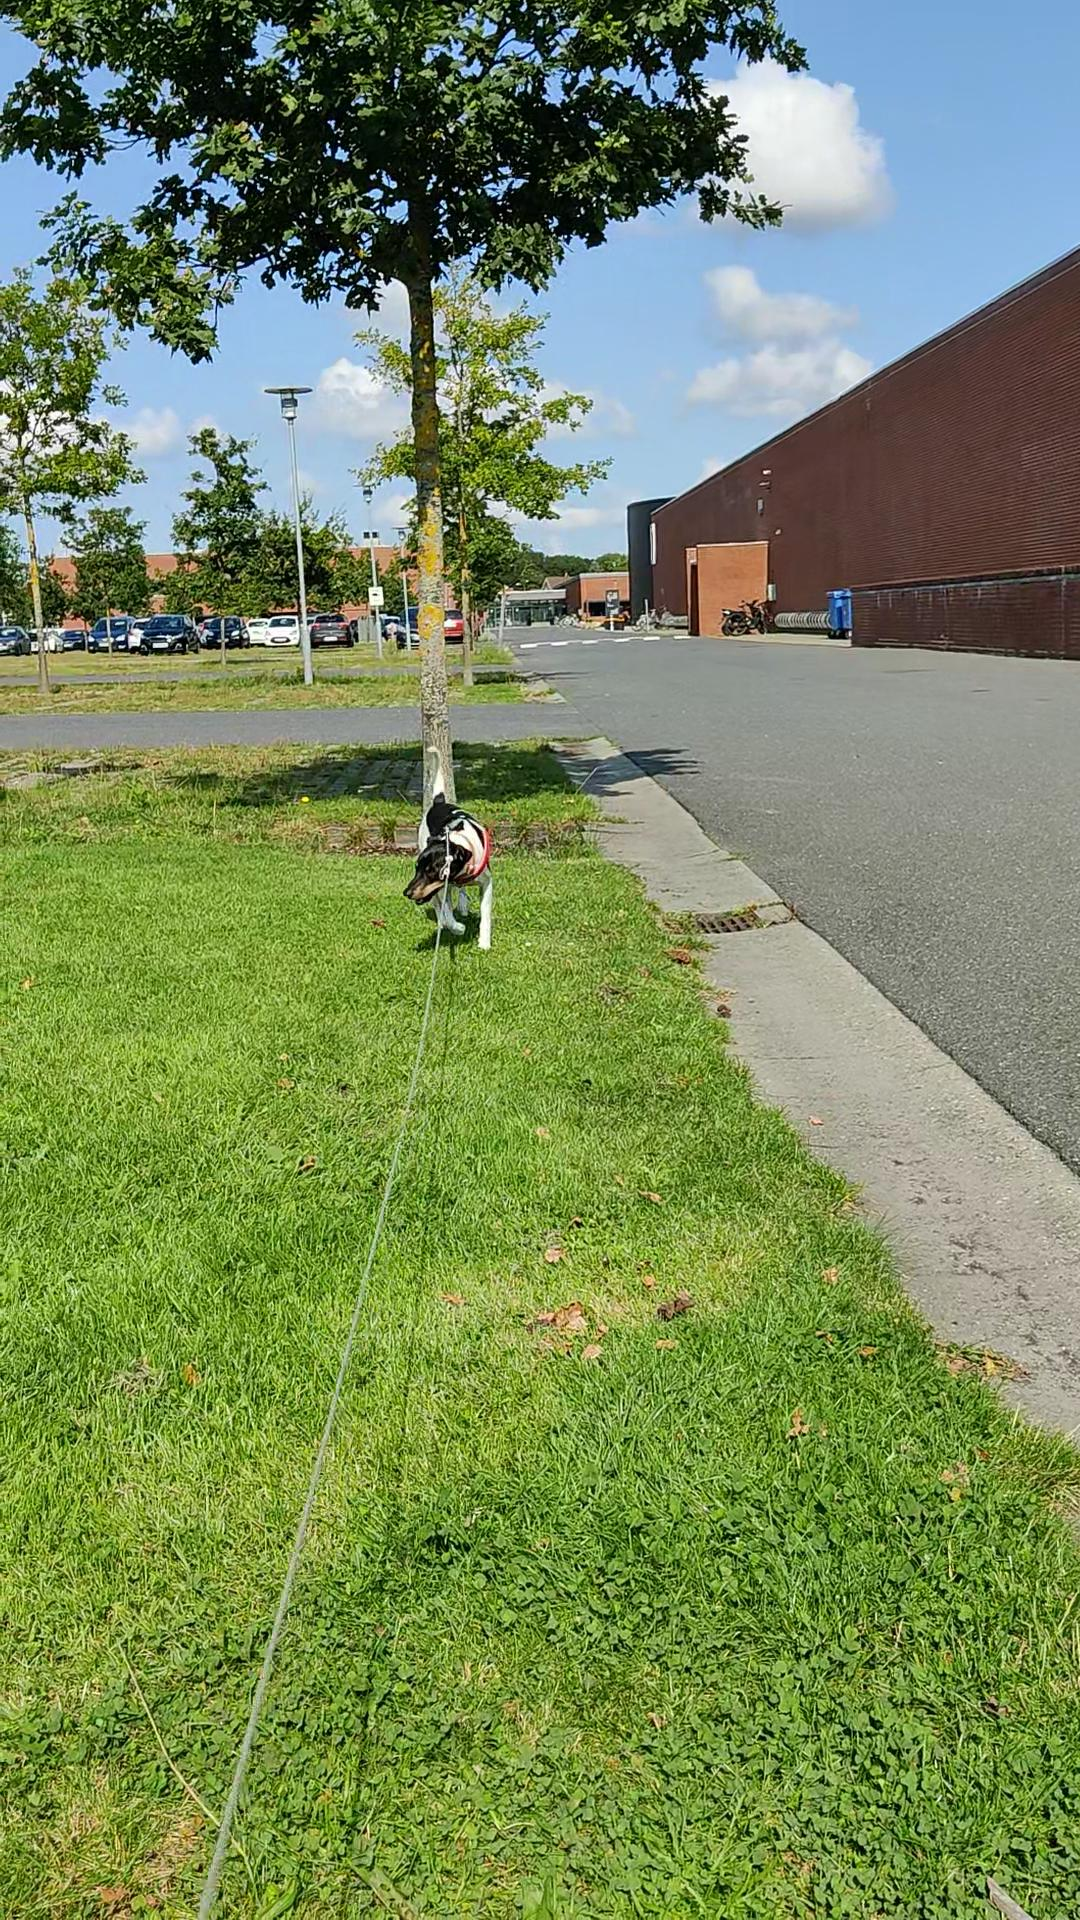Dog: (396, 738, 505, 955)
